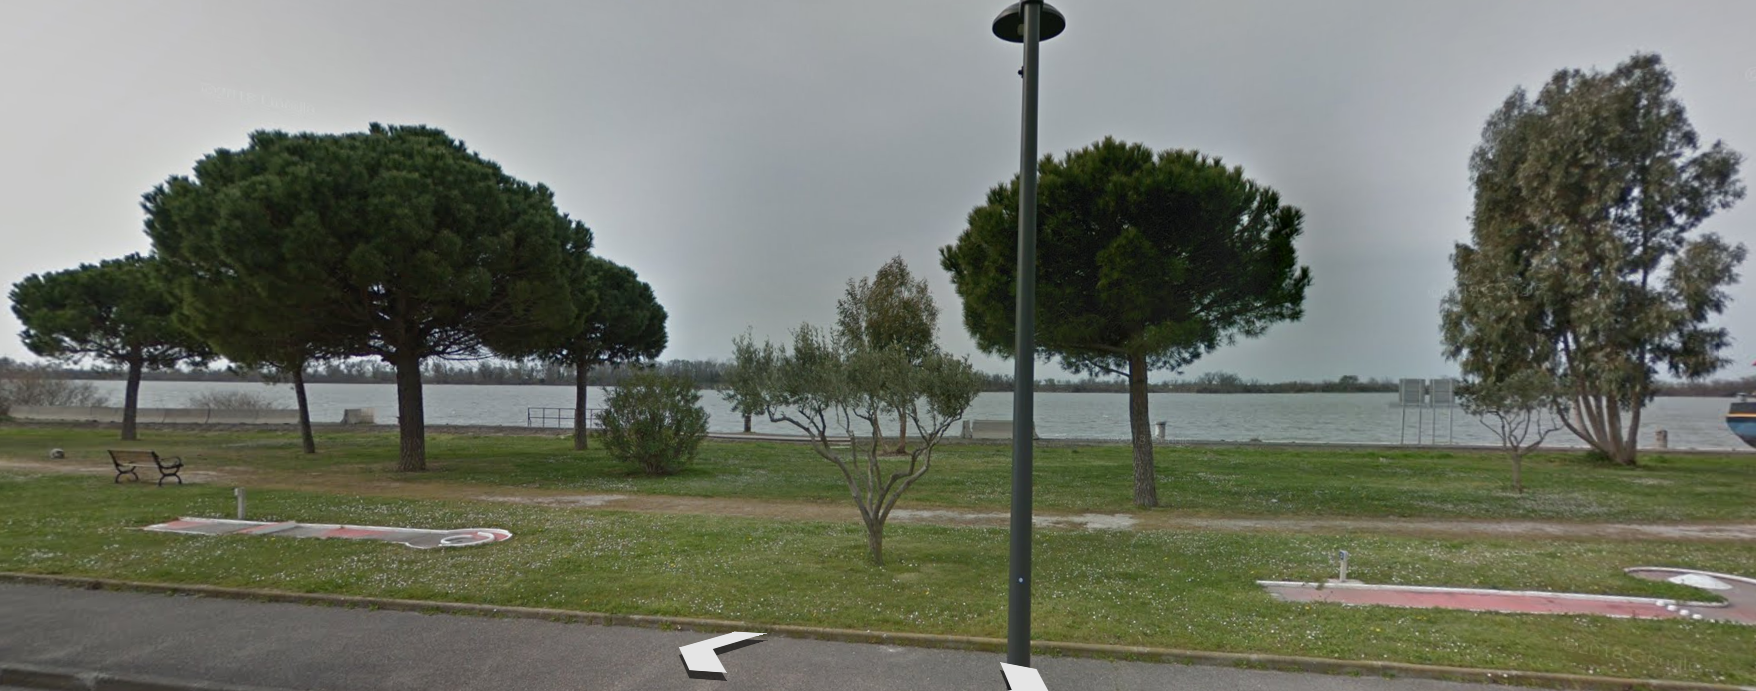Tree: (149, 137, 663, 477), (1458, 39, 1749, 520), (966, 134, 1313, 507), (742, 263, 986, 577), (519, 250, 663, 469), (16, 254, 217, 407)
